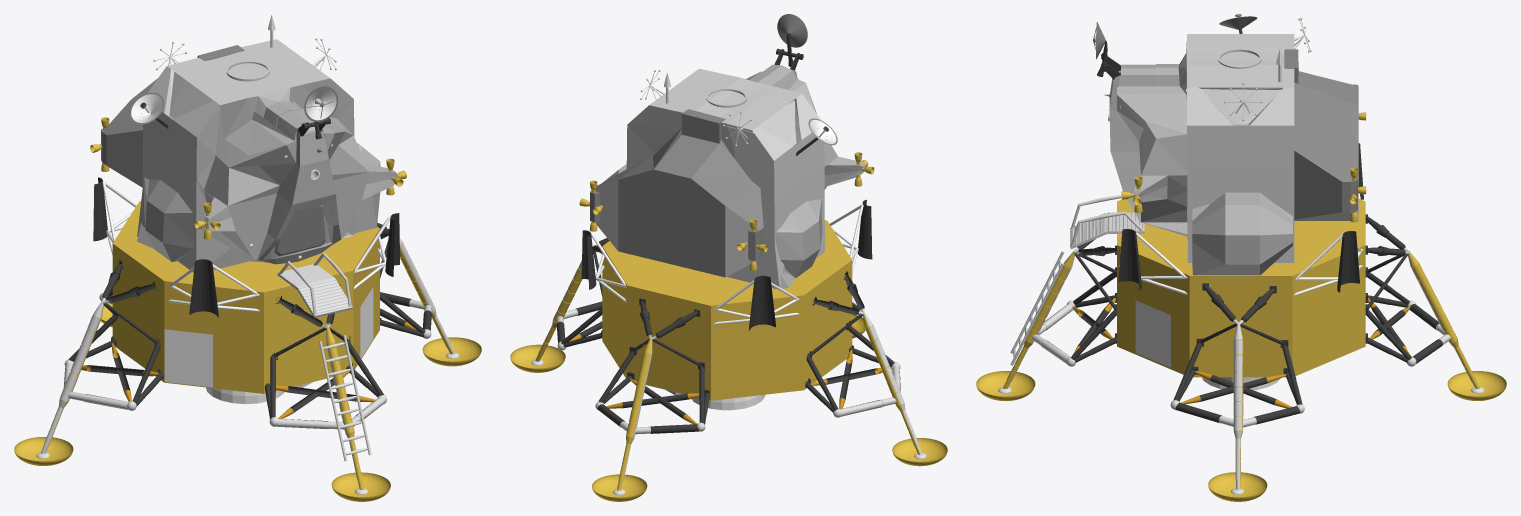
The model's file is apollo_lm.glb.
3 renders of one model, left to right at view 1: azimuth 30°, elevation 25°; view 2: azimuth 150°, elevation 25°; view 3: azimuth 270°, elevation 25°, orthographic. The views are drawn at different scales.
Visible parts, largest first — view 1: polySurfac, pCylinder1, group31 19, pCylinde10, pCube2, group31 15, pPlane1, pCube3, pCube27, polySurfa1, group75 pP, group31 g6 (+16 smaller); view 2: pCylinder1, polySurfac, pCube2, group31 19, pCylinde10, group31 15, group31 16, group75 11, group31 g8, group31 14, group31 g6, group31 g7 (+10 smaller); view 3: polySurfac, pCylinder1, pCube2, pCylinder9, group31 19, group31 16, pPlane2, group31 15, pCube3, group31 g8, group31 g7, group31 g6 (+10 smaller).
Part boxes in pixels (x1,y1,x2,y2): polySurfac: [137, 39, 397, 272]; pCylinder1: [112, 201, 379, 393]; group31 19: [14, 302, 481, 501]; pCylinde10: [137, 177, 193, 261]; pCube2: [102, 45, 244, 187]; group31 15: [41, 238, 454, 489]; pPlane1: [164, 329, 212, 387]; pCube3: [277, 264, 352, 317]; pCube27: [274, 204, 325, 255]; polySurfa1: [319, 335, 371, 461]; group75 pP: [189, 259, 218, 317]; group31 g6: [68, 305, 431, 429]; pCylinder1: [602, 220, 852, 400]; polySurfac: [626, 64, 865, 288]; pCube2: [596, 109, 763, 277]; group31 19: [510, 314, 947, 501]; pCylinde10: [776, 199, 822, 288]; group31 15: [535, 260, 922, 490]; group31 16: [535, 246, 921, 490]; group75 11: [748, 275, 775, 330]; group31 g8: [569, 321, 852, 408]; group31 14: [561, 308, 838, 410]; group31 g6: [563, 301, 900, 434]; group31 g7: [556, 316, 896, 431]; polySurfac: [1109, 34, 1294, 262]; pCylinder1: [1117, 199, 1365, 377]; pCube2: [1284, 49, 1358, 220]; pCylinder9: [1192, 192, 1293, 275]; group31 19: [976, 371, 1506, 501]; group31 16: [1003, 251, 1479, 489]; pPlane2: [1135, 300, 1170, 367]; group31 15: [1006, 254, 1476, 489]; pCube3: [1070, 212, 1144, 249]; group31 g8: [1073, 297, 1409, 408]; group31 g7: [1032, 334, 1450, 427]; group31 g6: [1038, 304, 1444, 426].
Bounding box in the file's own units: 6.43 × 5.01 × 6.43.
